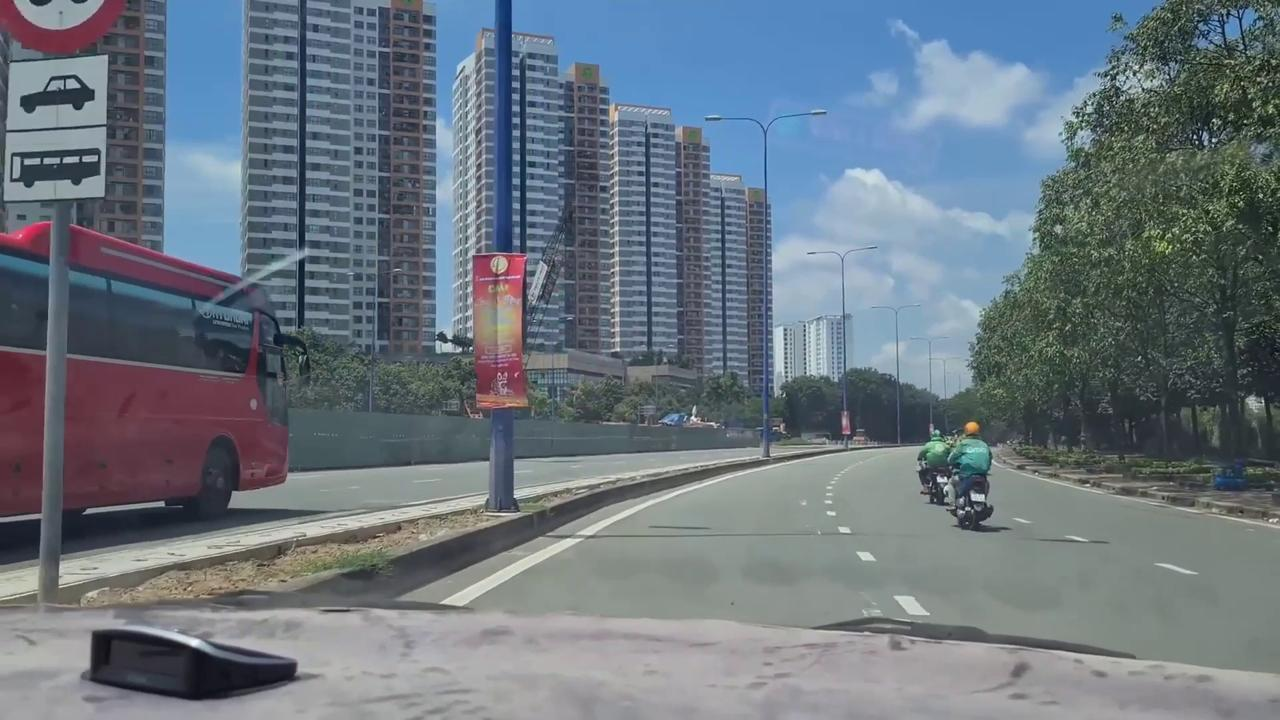Biển phụ: (3, 53, 109, 199)
